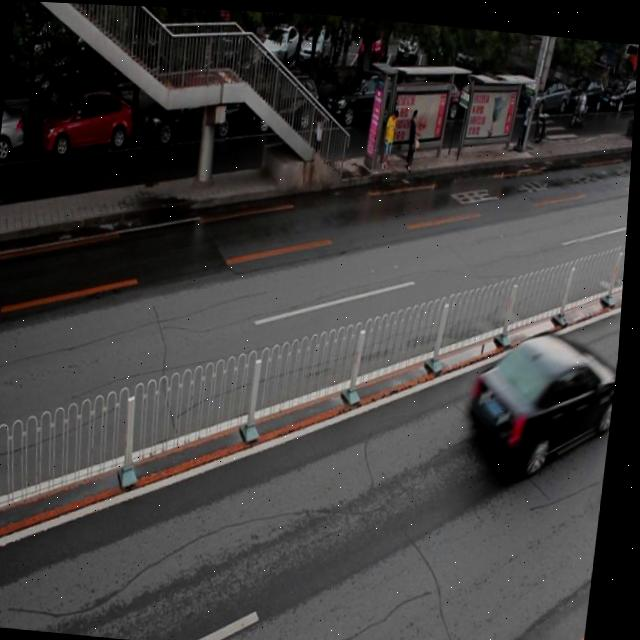car: (467, 315, 624, 475), (40, 83, 139, 160), (143, 80, 245, 148), (246, 68, 323, 136), (324, 66, 402, 130), (0, 102, 32, 164)
